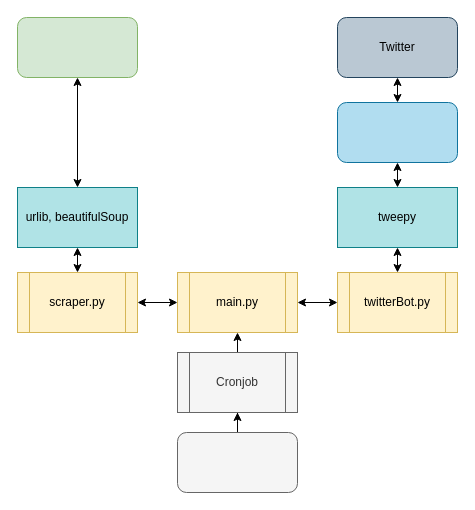
Some shapes in this 475 by 510 pixel diagram are drawn without their labels. The shapes that lost their labels are listed below. From the top down, each one's centre as x and y in pixels, then its label:
At point 77,47: "Papers with Code".
At point 397,132: "Twitter API".
At point 237,462: "Ubuntu 16.04".
